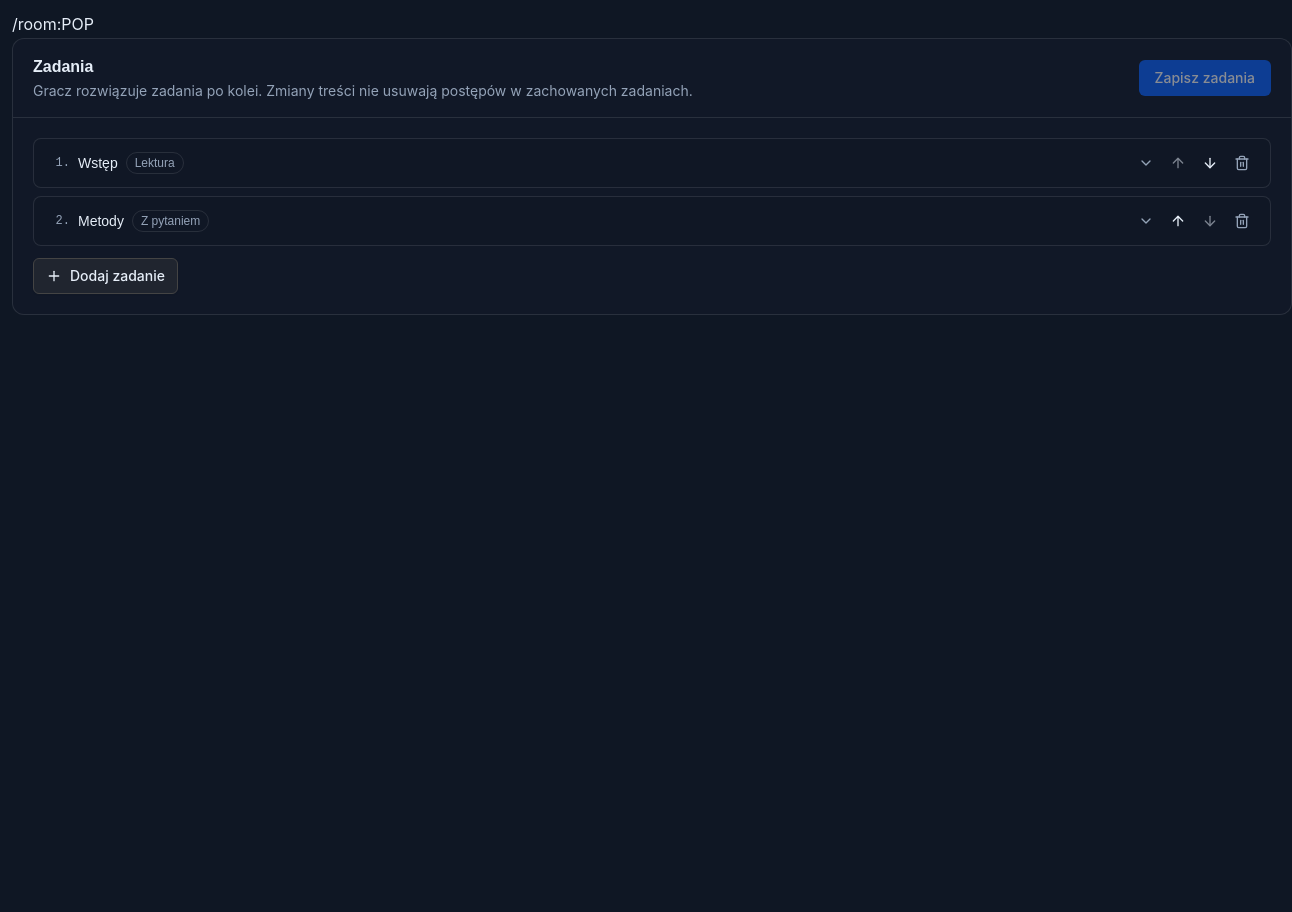
Test: tasks editor › requires a question for an answer and can discard changes
This screenshot has width=1292, height=912.
Click the button "Wstęp Lektura": (98, 163) [78, 148, 1154, 178]
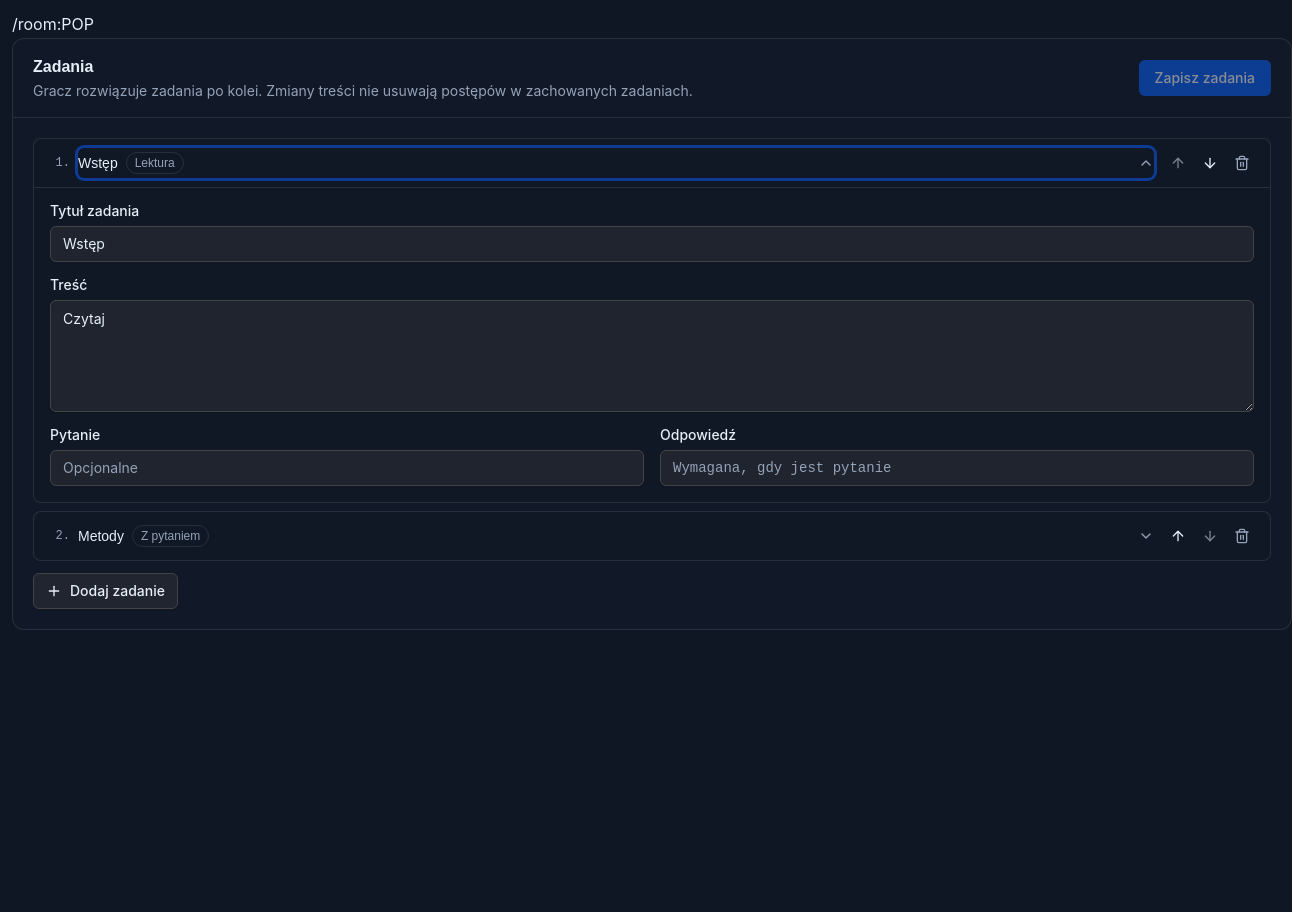
In the field labelled "Odpowiedź": (957, 468) [660, 450, 1254, 486], type "x"
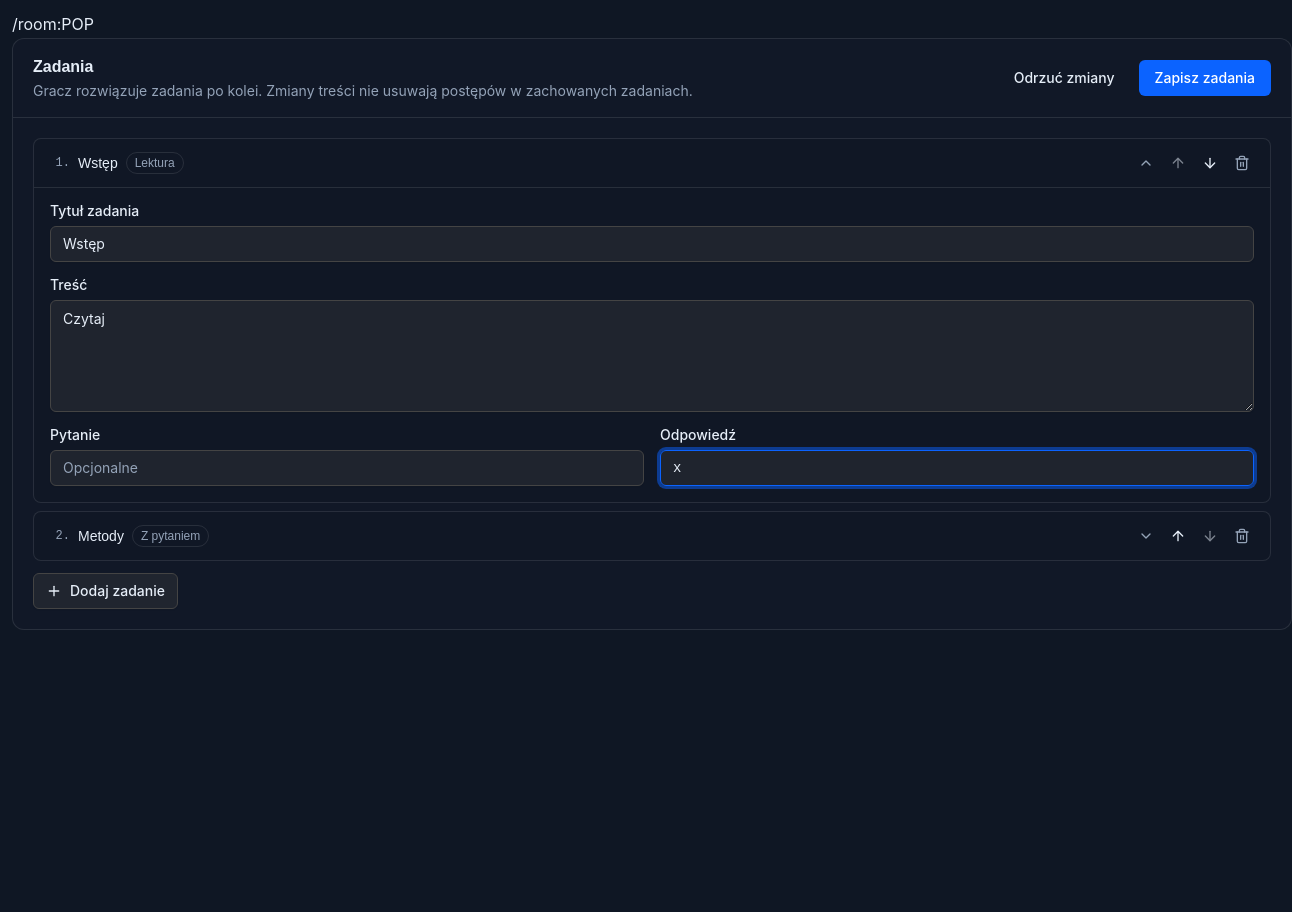
Click the button "Zapisz zadania": (1205, 78) [1138, 60, 1271, 96]
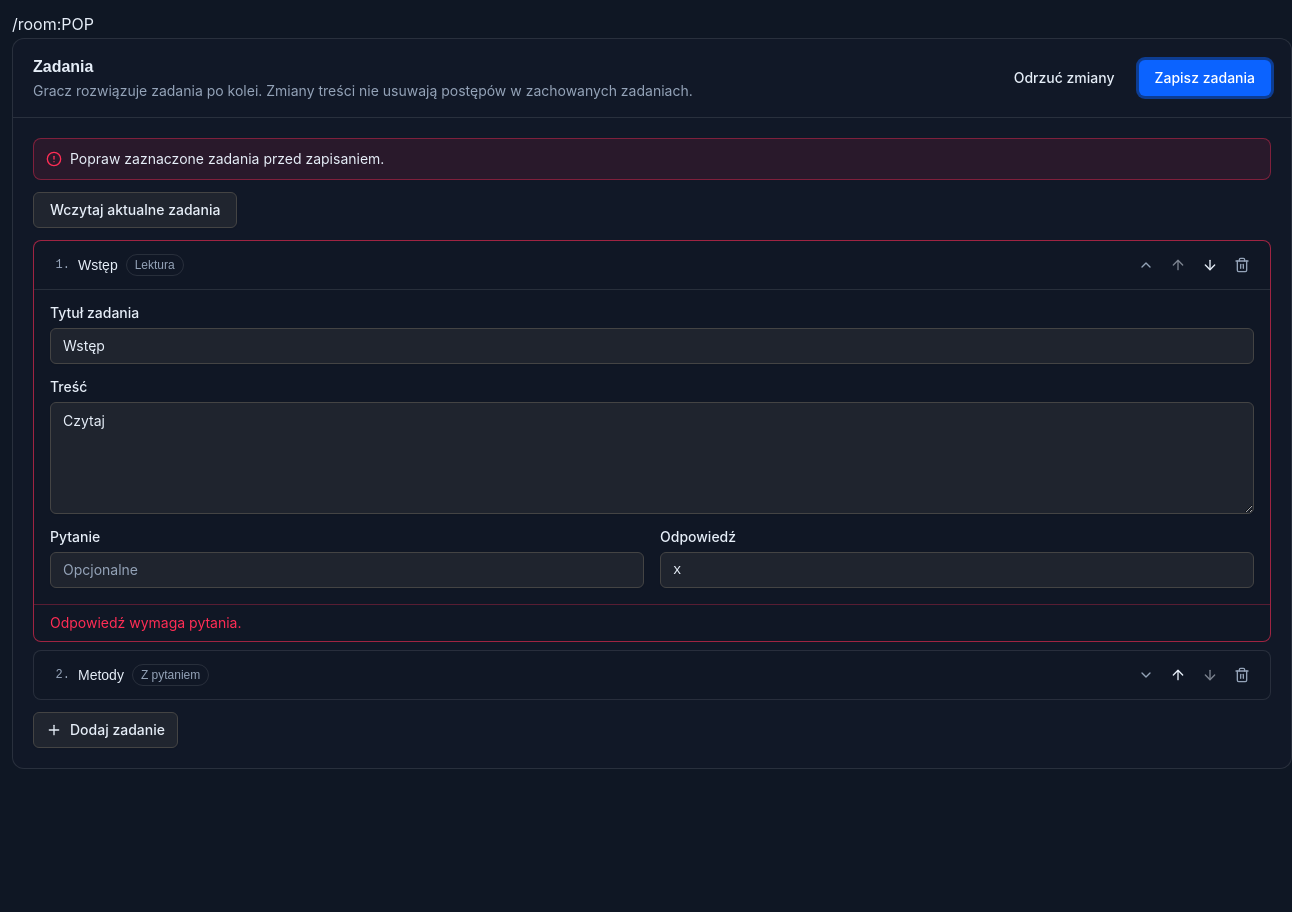
Expected: the text "Odpowiedź wymaga pytania." is shown, [34, 604, 1270, 641]
Click the button "Odrzuć zmiany": (1064, 78) [998, 60, 1131, 96]
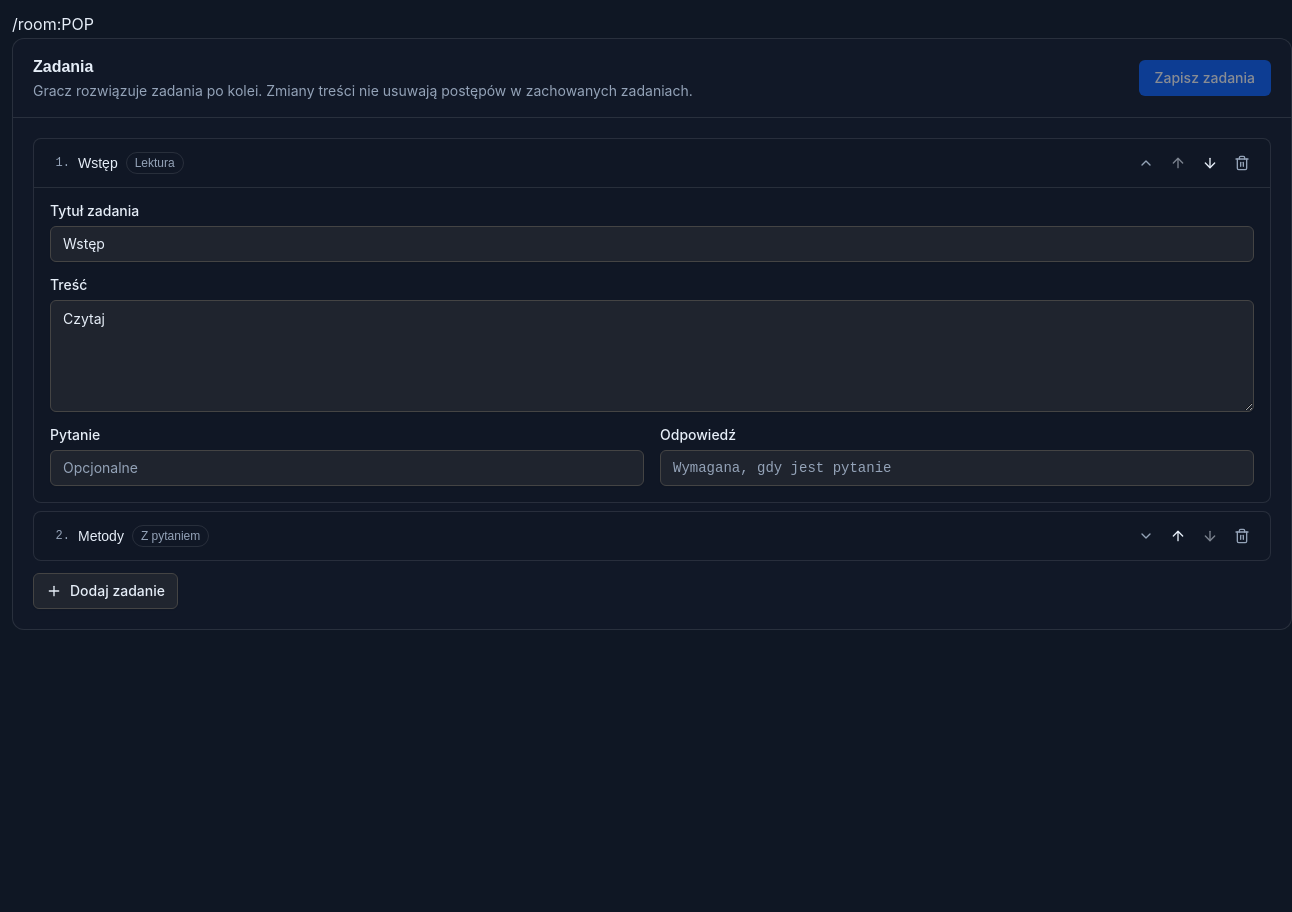
Expected: the text "Odpowiedź wymaga pytania." is gone
Expected: the button "Zapisz zadania" is disabled, [1138, 60, 1271, 96]
